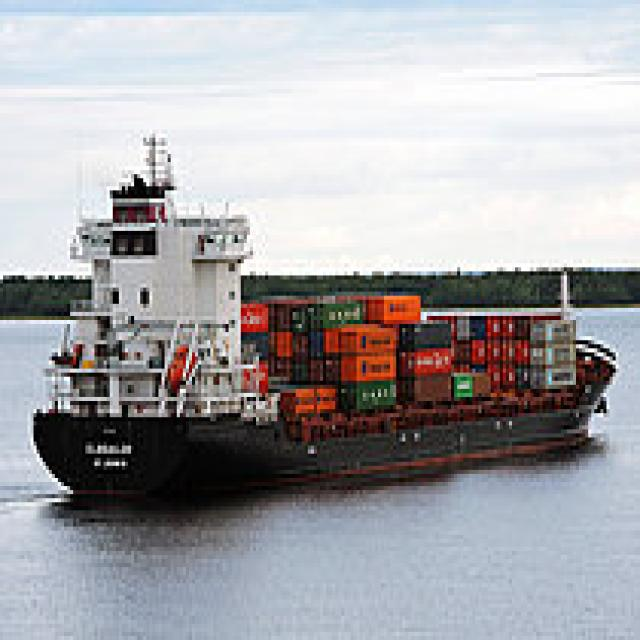Cargo: (27, 121, 618, 502)
